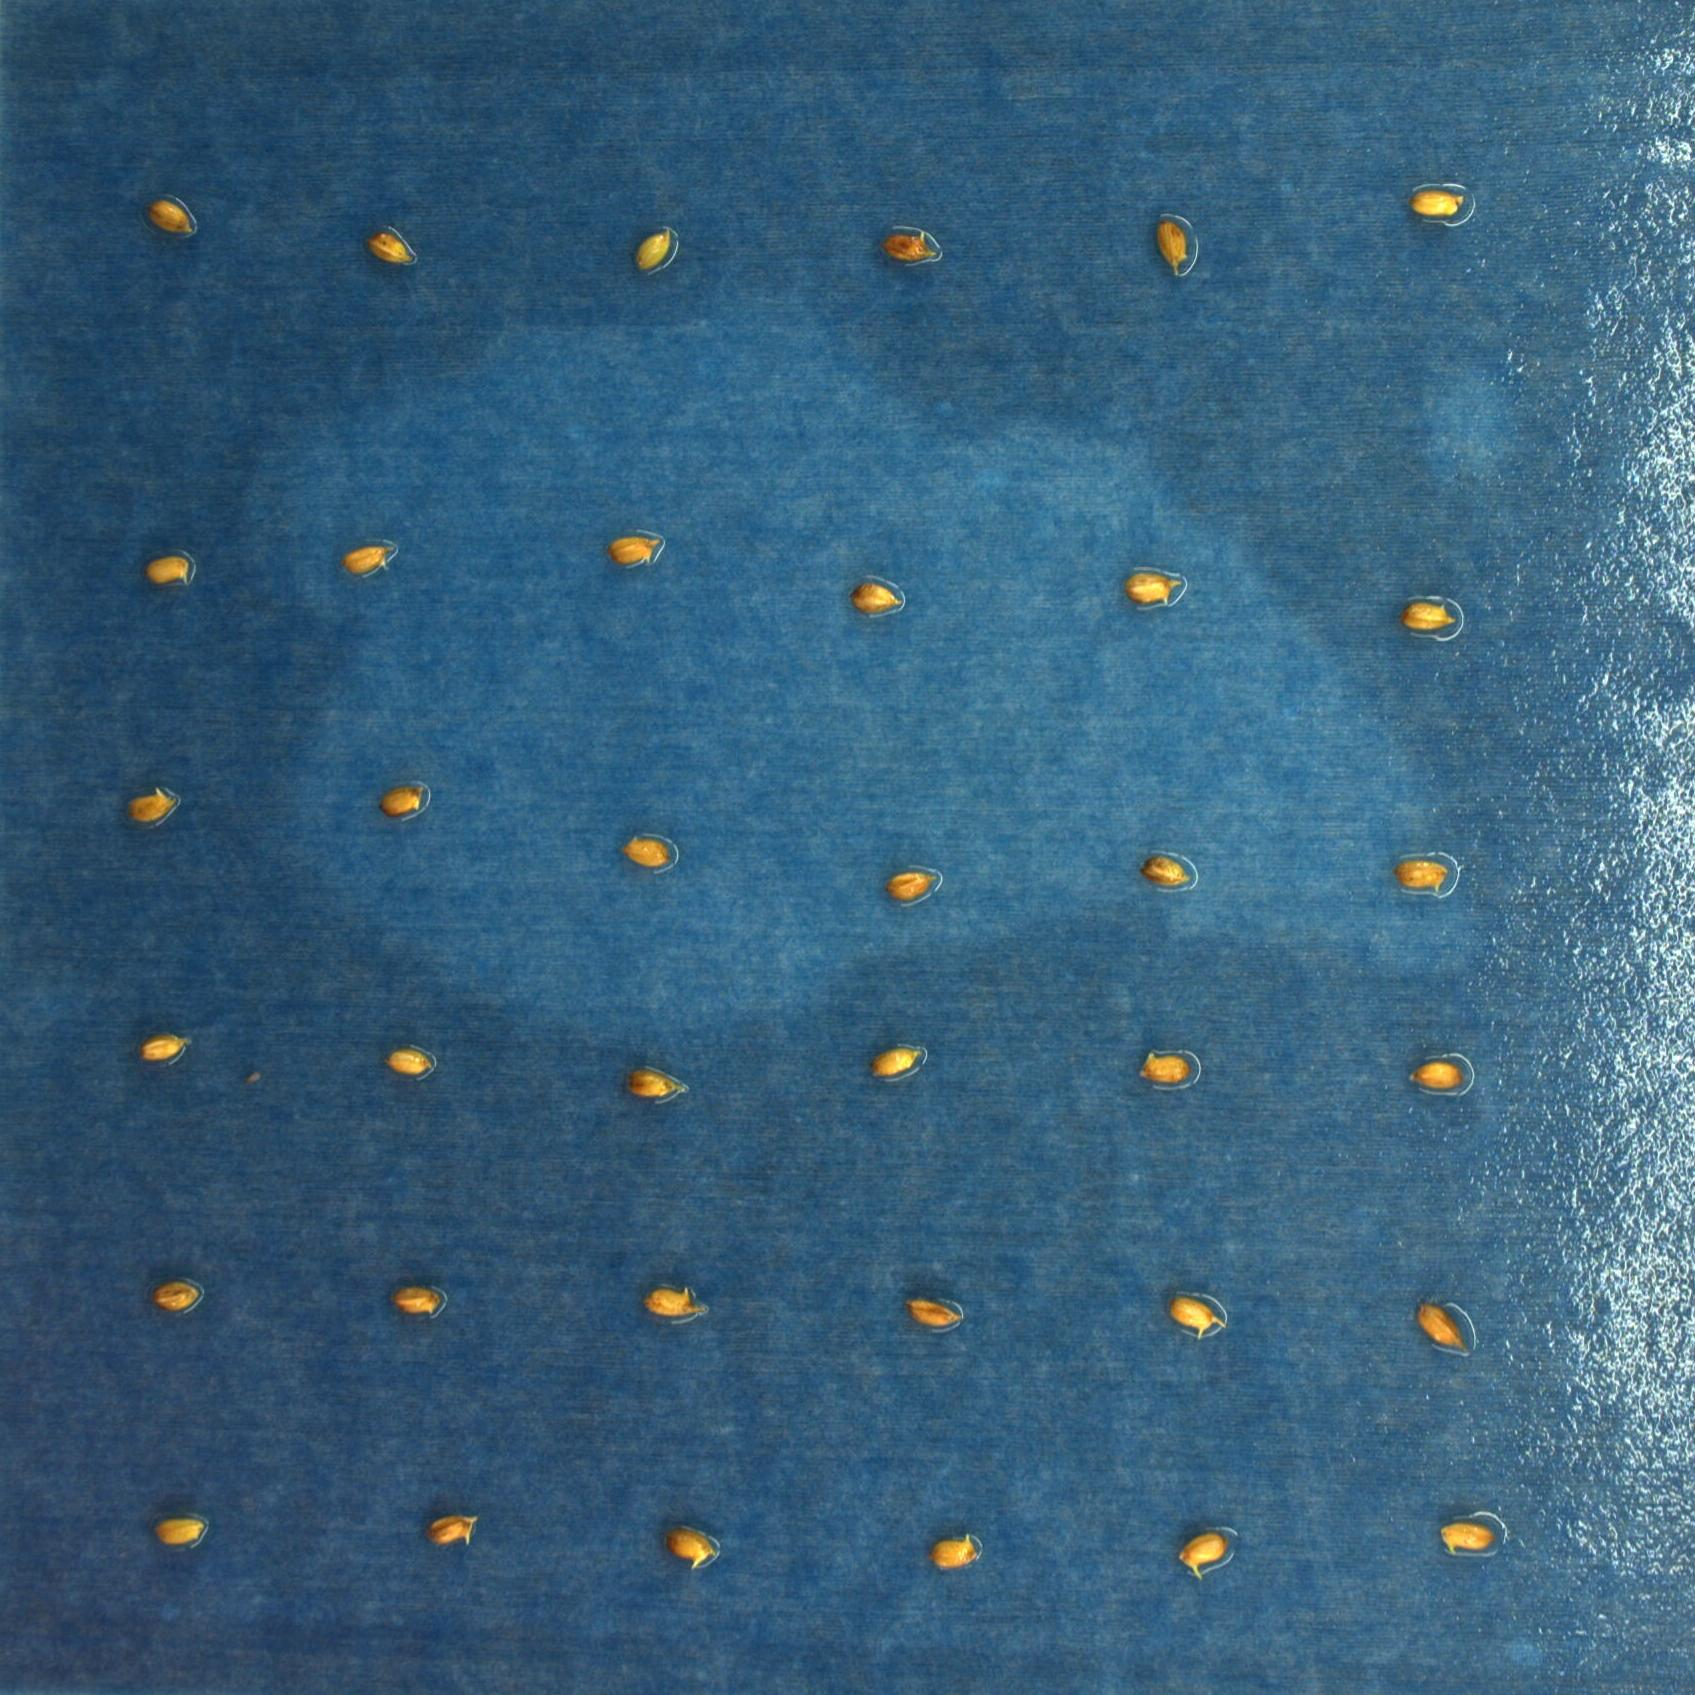not sprout: (1409, 1295, 1471, 1352), (143, 1510, 213, 1554), (874, 225, 944, 265), (1394, 854, 1451, 900), (663, 1524, 719, 1569), (1121, 570, 1183, 608), (602, 534, 663, 573), (1153, 216, 1189, 281), (622, 1066, 681, 1105), (1436, 1520, 1495, 1558), (1136, 1049, 1197, 1087), (1170, 1301, 1226, 1341), (120, 787, 175, 826), (422, 1512, 478, 1551), (147, 196, 196, 241), (863, 1045, 924, 1080), (925, 1534, 978, 1574), (1402, 1062, 1467, 1094), (851, 577, 905, 616), (903, 1295, 962, 1330), (1177, 1532, 1225, 1575), (1395, 601, 1458, 633), (640, 1285, 698, 1319), (365, 230, 414, 270), (880, 872, 938, 905), (140, 1031, 191, 1066), (632, 230, 677, 270), (140, 554, 192, 588), (374, 782, 422, 818), (335, 545, 393, 574), (618, 838, 672, 869), (1142, 858, 1191, 893), (393, 1287, 442, 1319), (1411, 189, 1468, 217), (385, 1048, 432, 1080), (151, 1281, 199, 1312)
